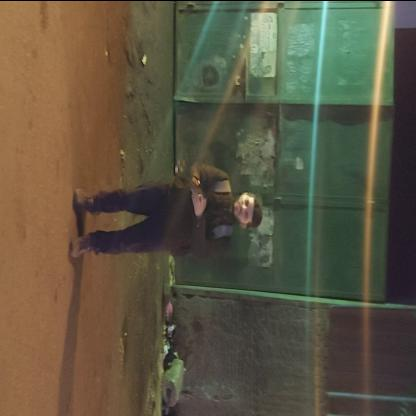long weapon: (168, 142, 212, 212)
